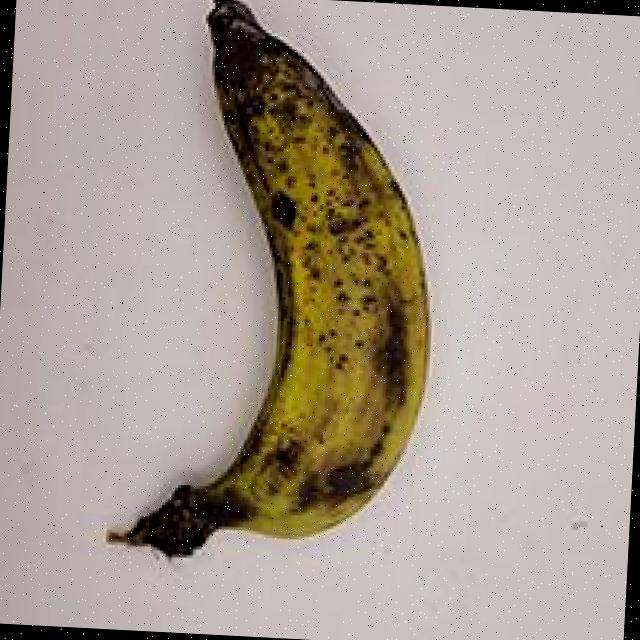Overripe: (82, 0, 475, 596)
